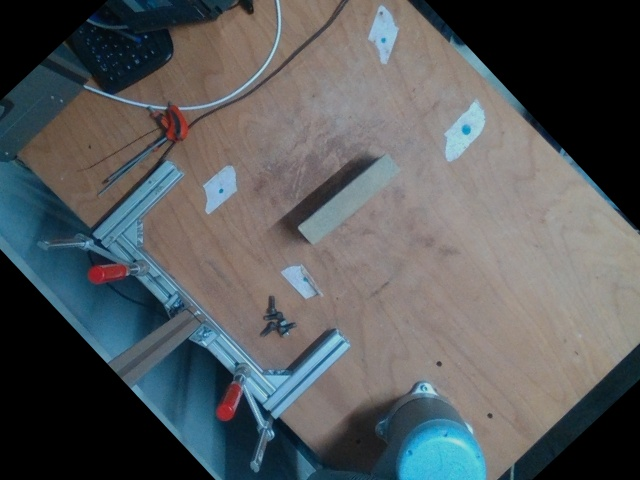brick-side: (301, 157, 398, 241)
